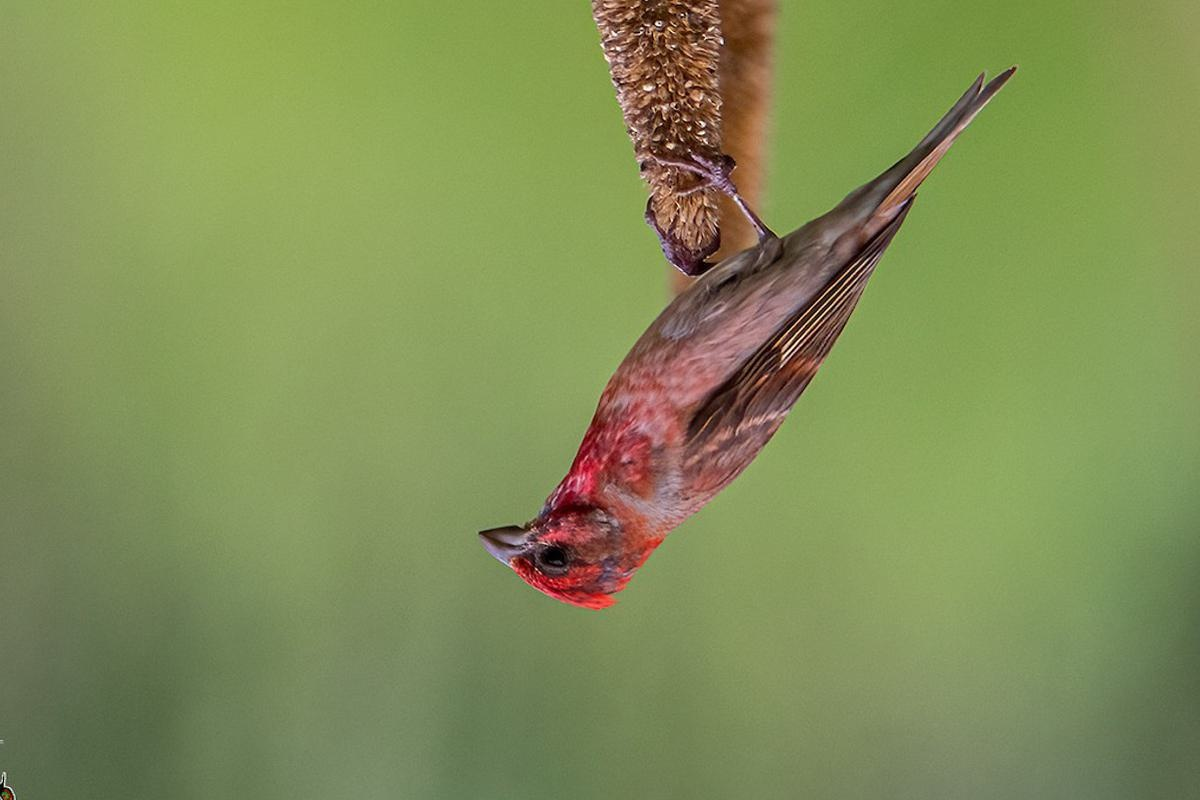rosefinch: (503, 122, 974, 647)
